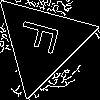F: (17, 17, 69, 59)
